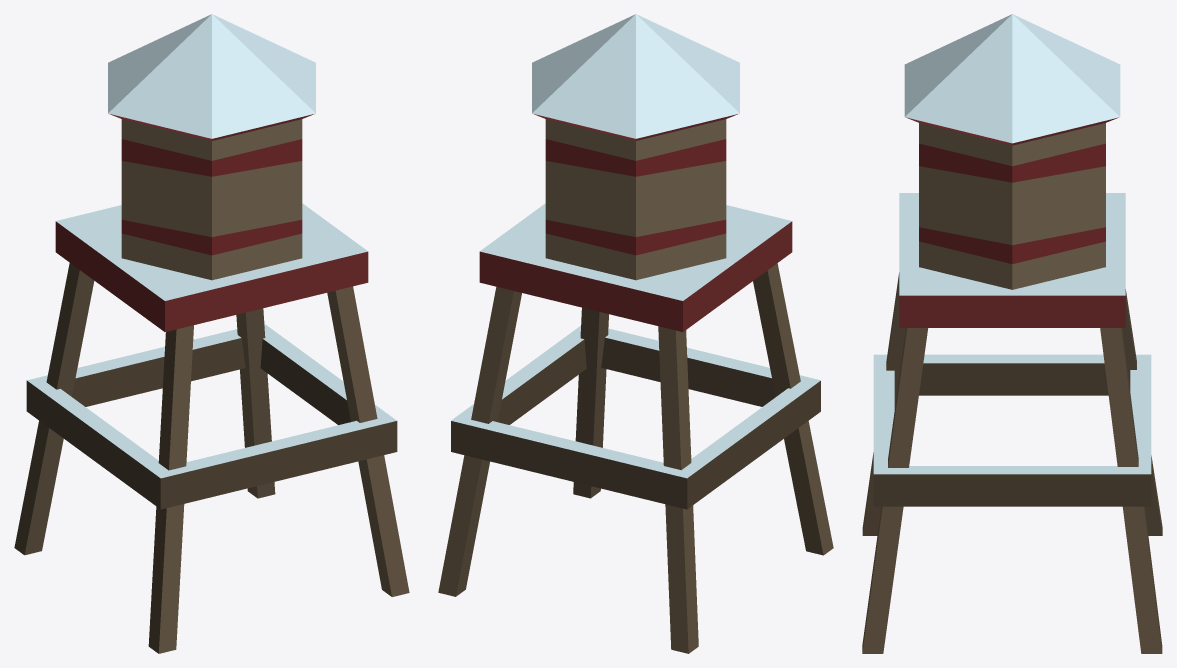
Rendered from SM_Bld_Western_Water_Tower_01_Snow.fbx.
3 views of the same model, side by side, from view 1: azimuth 30°, elevation 25°; view 2: azimuth 150°, elevation 25°; view 3: azimuth 270°, elevation 25° (orthographic). The views are drawn at different scales.
Parts seen in each view (by area): view 1: SM_Bld_Western_Water_Tower_01_Snow; view 2: SM_Bld_Western_Water_Tower_01_Snow; view 3: SM_Bld_Western_Water_Tower_01_Snow.
Boxes of the visible parts, x1,y1,x2,y2 form: SM_Bld_Western_Water_Tower_01_Snow: (14, 14, 409, 653); SM_Bld_Western_Water_Tower_01_Snow: (438, 14, 833, 653); SM_Bld_Western_Water_Tower_01_Snow: (862, 14, 1162, 653).
Size of the model in its own units: 63.5 by 135 by 63.5.
1 material, 1 textured.
